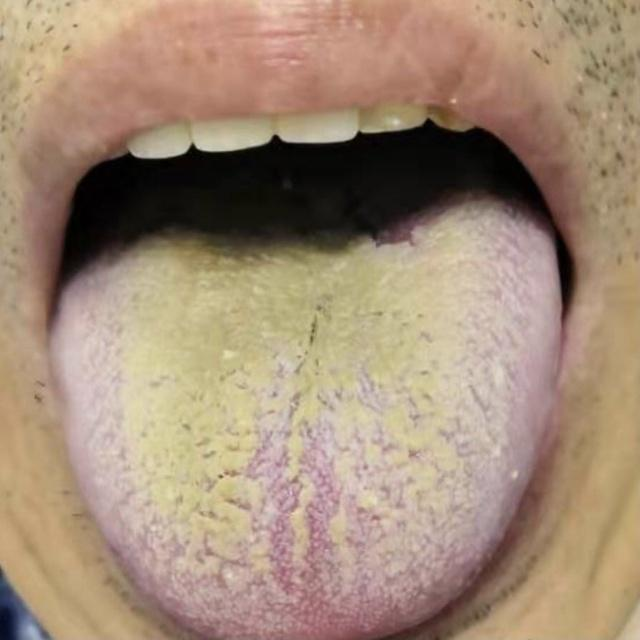huangtaishe: (51, 182, 568, 640)
